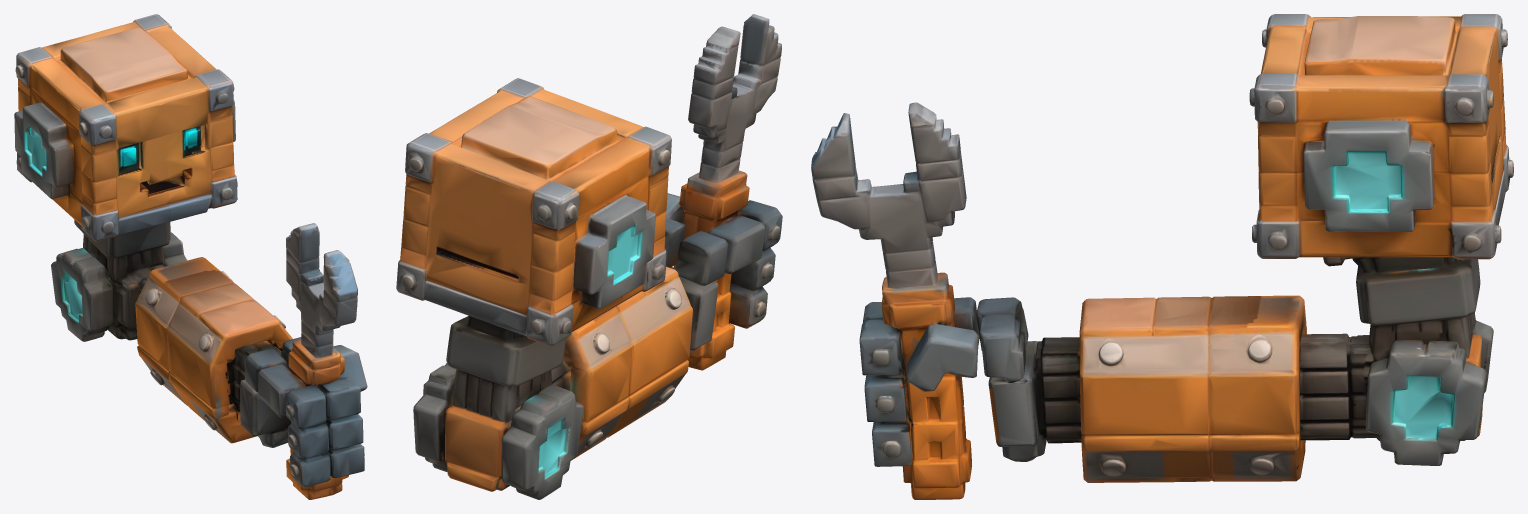
The model's file is fp_arm.glb.
3 views of the same model, side by side, from view 1: azimuth 30°, elevation 25°; view 2: azimuth 150°, elevation 25°; view 3: azimuth 270°, elevation 25° (orthographic). The views are drawn at different scales.
Visible parts, largest first — view 1: node_0; view 2: node_0; view 3: node_0.
Part boxes in pixels (bbox=[...]): node_0: bbox=[14, 14, 367, 499]; node_0: bbox=[396, 14, 782, 499]; node_0: bbox=[811, 14, 1513, 499].
Bounding box in the file's own units: 0.3933 × 0.7023 × 1.02.
Materials: 1 (1 with a texture image).
